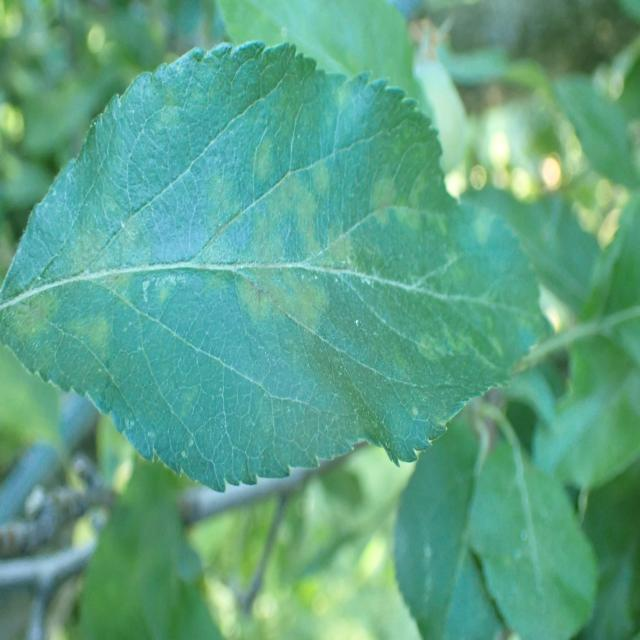scab: (8, 86, 521, 414)
